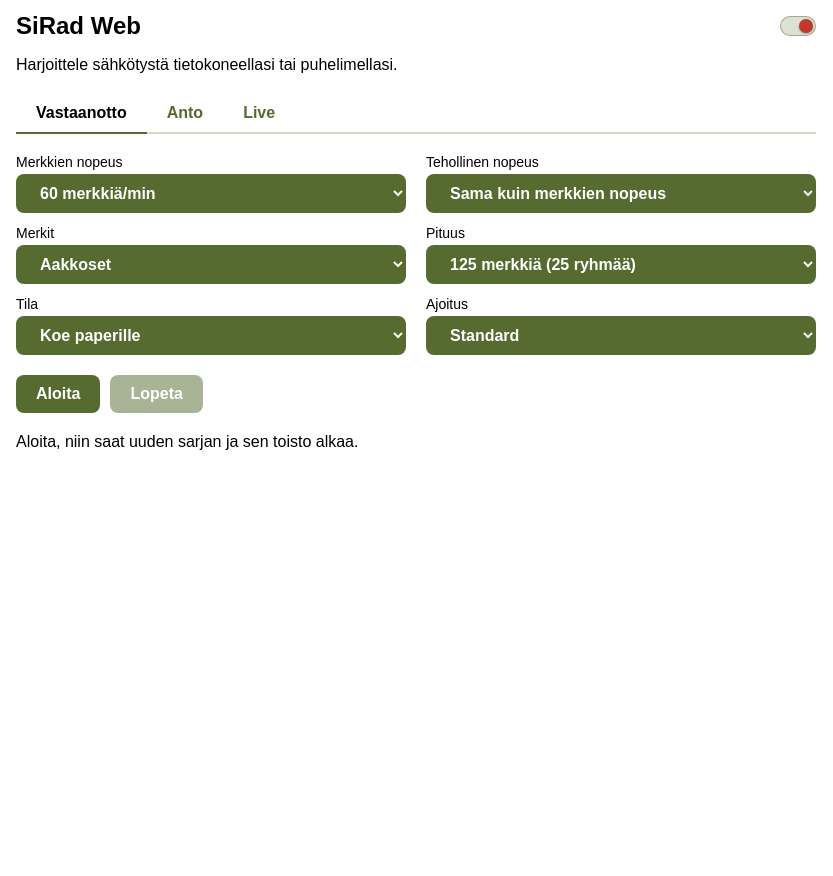
Test: App › practice mode › shows the message from the start of the playback, with nothing highlighted before the first character
Select "Harjoittelu" in the dropdown labelled "Tila" at (211, 336), box [16,316,406,355]
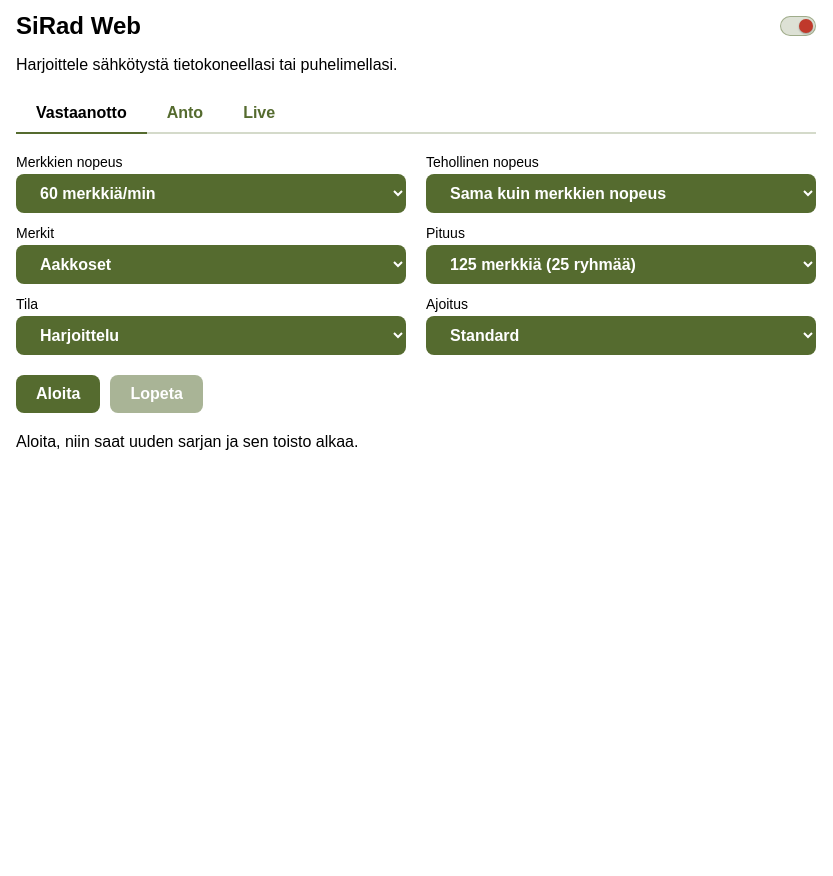
Click the button "Aloita".
click(58, 394)  # box [16,375,100,413]
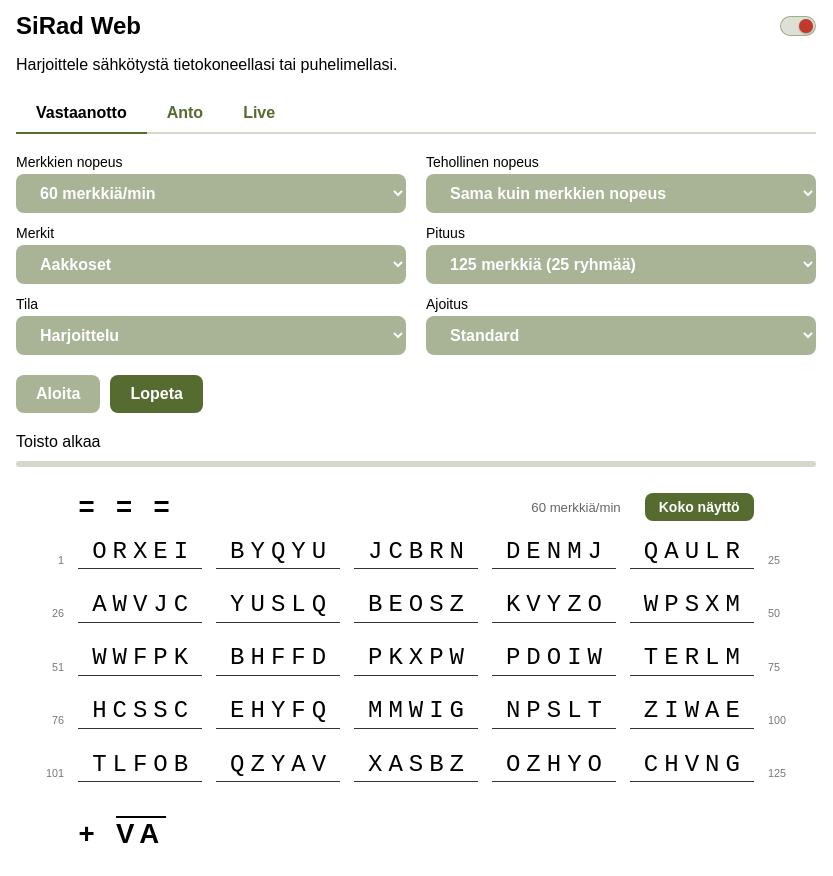
expect the number of elements with class "Results-row" is 5: met, box [16,538,816,570]; [16,591,816,623]; [16,644,816,676]; [16,697,816,729]; [16,751,816,782]
expect the element with class "Results-following" is shown: met, box [16,477,816,865]
expect the progress indicator is shown: met, box [16,461,816,467]
